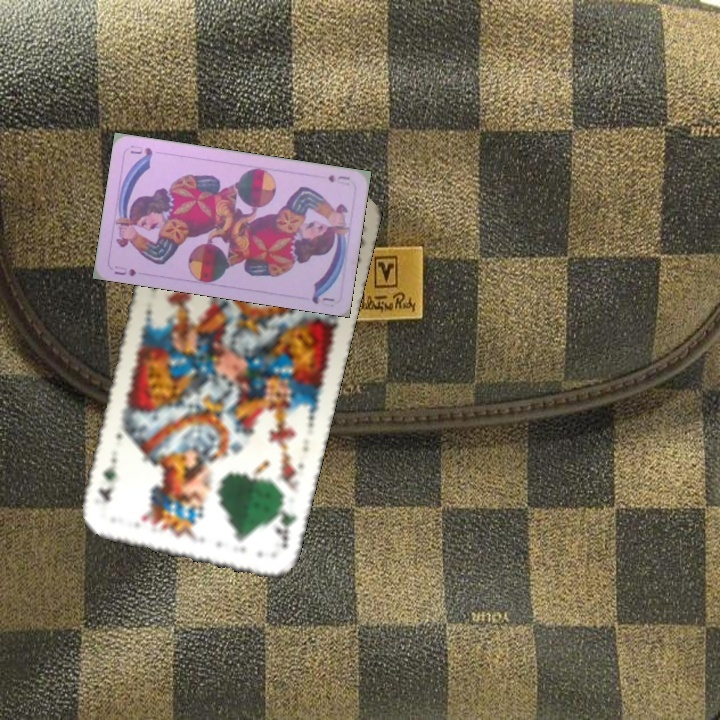GK: (271, 495, 299, 551)
SU: (324, 170, 353, 188), (110, 261, 139, 279)
